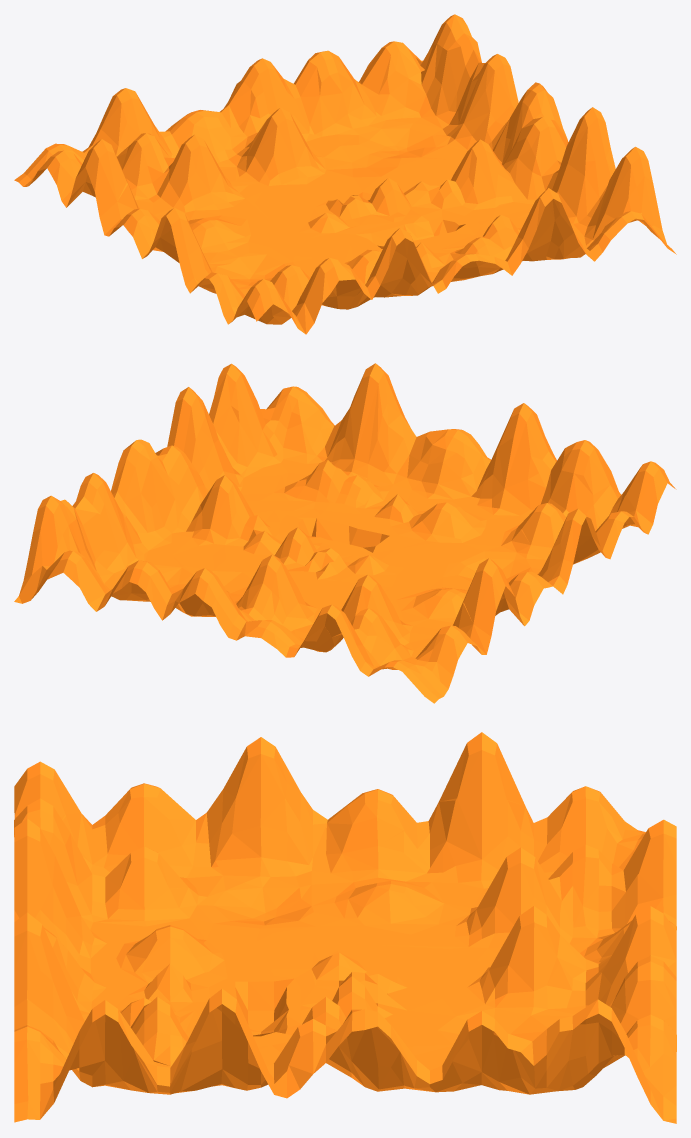
The model's file is MarTerrain4.fbx.
The picture shows the model from 3 angles, top to bottom: view 1: azimuth 30°, elevation 25°; view 2: azimuth 150°, elevation 25°; view 3: azimuth 270°, elevation 25°; orthographic projection. The views are drawn at different scales.
Parts seen in each view (by area): view 1: Plane; view 2: Plane; view 3: Plane.
Boxes of the visible parts, <box> form: Plane: <box>14,14,676,334</box>; Plane: <box>14,363,676,703</box>; Plane: <box>14,732,676,1123</box>.
Size of the model in its own units: 20025 by 5127 by 20019.
